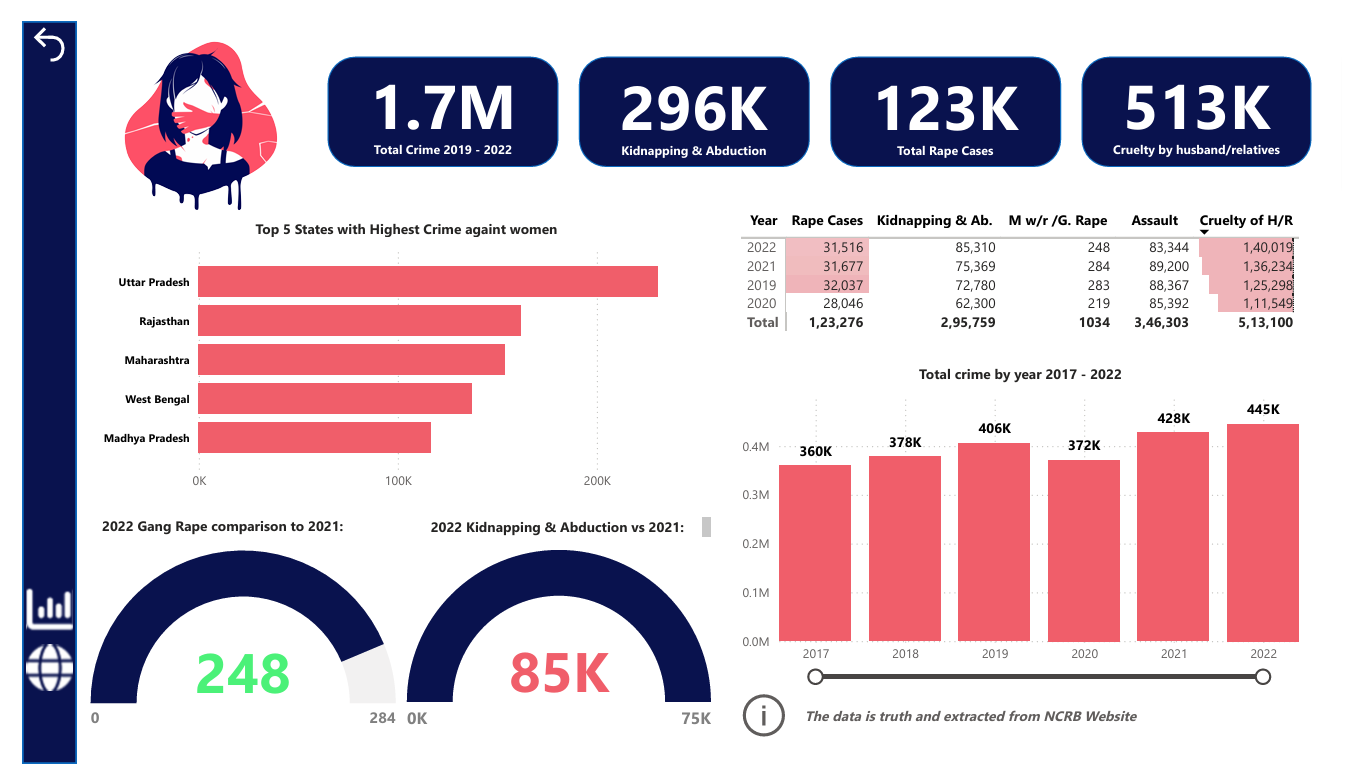

This screenshot's page, from the dashboard's own definition file:
{"tool":"powerbi","page":{"name":"Exec. DASHBOARD","canvas":[1280,720],"ordinal":0},"visuals":[{"type":"shape","box":[0,0,52.2,720.3],"z":0},{"type":"shape","box":[296.1,33.6,223.9,107],"z":1000},{"type":"shape","box":[539.9,33.6,223.9,107],"z":2000},{"type":"shape","box":[783.7,33.6,223.9,107],"z":3000},{"type":"shape","box":[1027.5,33.6,223.9,107],"z":4000},{"type":"card","fields":{"Values":["Table.total_crime_2019_2022"]},"box":[303.3,19,209.8,133.9],"z":5000},{"type":"card","fields":{"Values":["Sum(combined_kidnapping.kidnapping and abduction of women (I))"]},"box":[547.3,19.9,209,134.3],"z":6000},{"type":"card","fields":{"Values":["Sum(combined_rape.Total Rape (I))"]},"box":[791.2,19.9,209,134.3],"z":7000},{"type":"card","fields":{"Values":["Sum(combined_cruelty_by_husband.Cruelty by husband or his relatives (I))"]},"box":[1035,18.7,209,134.3],"z":8000},{"type":"clusteredBarChart","title":"Top 5 States with Highest Crime againt women","fields":{"Category":["combined_rape.STATES/UT"],"Y":["Sum(combined_total_crime.total crime)"]},"box":[72.1,191.6,600.8,271.2],"z":9000},{"type":"gauge","fields":{"Y":["Sum(2022_kidnapping.kidnapping and abduction of women (I))"],"MaxValue":["Sum(2021_kidnapping.kidnapping and abduction of women (I))"]},"box":[368.2,505,304.8,195.3],"z":10000},{"type":"gauge","title":"2021 vs 2022 gang rape ","fields":{"Y":["Sum(2022_mwr_gang_rape.murder with rape/ gang rape (I))"],"MaxValue":["Sum(2021_mwr_gang_rape.murder with rape/ gang rape (I))"]},"box":[61,505,306,195.3],"z":11000},{"type":"textbox","box":[72.1,475.2,262.5,29.9],"z":12000},{"type":"textbox","box":[390.6,476.4,282.4,28.6],"z":13000},{"type":"image","box":[11.2,0,323.4,191.6],"z":14000},{"type":"columnChart","title":"Total crime by year 2017 - 2022","fields":{"Category":["2_combined_all_years.year"],"Y":["Sum(2_combined_all_years.total crime)"]},"box":[692.9,333.4,551.1,313.5],"z":15000},{"type":"pivotTable","fields":{"Rows":["calendar.year"],"Values":["Sum(combined_rape.Total Rape (I))","Sum(combined_kidnapping.kidnapping and abduction of women (I))","Sum(combined_gang_rape.murder with rape/ gang rape (I))","Sum(combined_assault_on_women.assault on women in intent to outrage her modesty (I))","Sum(combined_cruelty_by_husband.Cruelty by husband or his relatives (I))"]},"box":[692.9,177.9,551.1,146.8],"z":16000},{"type":"actionButton","box":[692.9,646.9,391.8,53.5],"z":17000},{"type":"actionButton","box":[3.8,0,43.8,43.8],"z":18000},{"type":"actionButton","box":[0,597.5,52.5,58.8],"z":19000},{"type":"actionButton","box":[0,542.5,52.5,55],"z":20000}]}

Visuals, with their boxes in screenshot pixels (x1, y1, x2, y2), scaled from the page's 1280x720 canvas onto the 1362x782 screenshot:
shape: detection(0, 0, 56, 781)
shape: detection(315, 36, 553, 153)
shape: detection(574, 36, 813, 153)
shape: detection(834, 36, 1072, 153)
shape: detection(1093, 36, 1332, 153)
card - Table.total_crime_2019_2022: detection(323, 21, 546, 166)
card - Sum(combined_kidnapping.kidnapping and abduction of women (I)): detection(582, 22, 805, 167)
card - Sum(combined_rape.Total Rape (I)): detection(842, 22, 1064, 167)
card - Sum(combined_cruelty_by_husband.Cruelty by husband or his relatives (I)): detection(1101, 20, 1324, 166)
"Top 5 States with Highest Crime againt women" clusteredBarChart: detection(77, 208, 716, 503)
gauge - Sum(2022_kidnapping.kidnapping and abduction of women (I)) x Sum(2021_kidnapping.kidnapping and abduction of women (I)): detection(392, 548, 716, 761)
"2021 vs 2022 gang rape " gauge: detection(65, 548, 391, 761)
textbox: detection(77, 516, 356, 549)
textbox: detection(416, 517, 716, 548)
image: detection(12, 0, 356, 208)
"Total crime by year 2017 - 2022" columnChart: detection(737, 362, 1324, 703)
pivotTable - calendar.year x Sum(combined_rape.Total Rape (I)): detection(737, 193, 1324, 353)
actionButton: detection(737, 703, 1154, 761)
actionButton: detection(4, 0, 51, 48)
actionButton: detection(0, 649, 56, 713)
actionButton: detection(0, 589, 56, 649)
